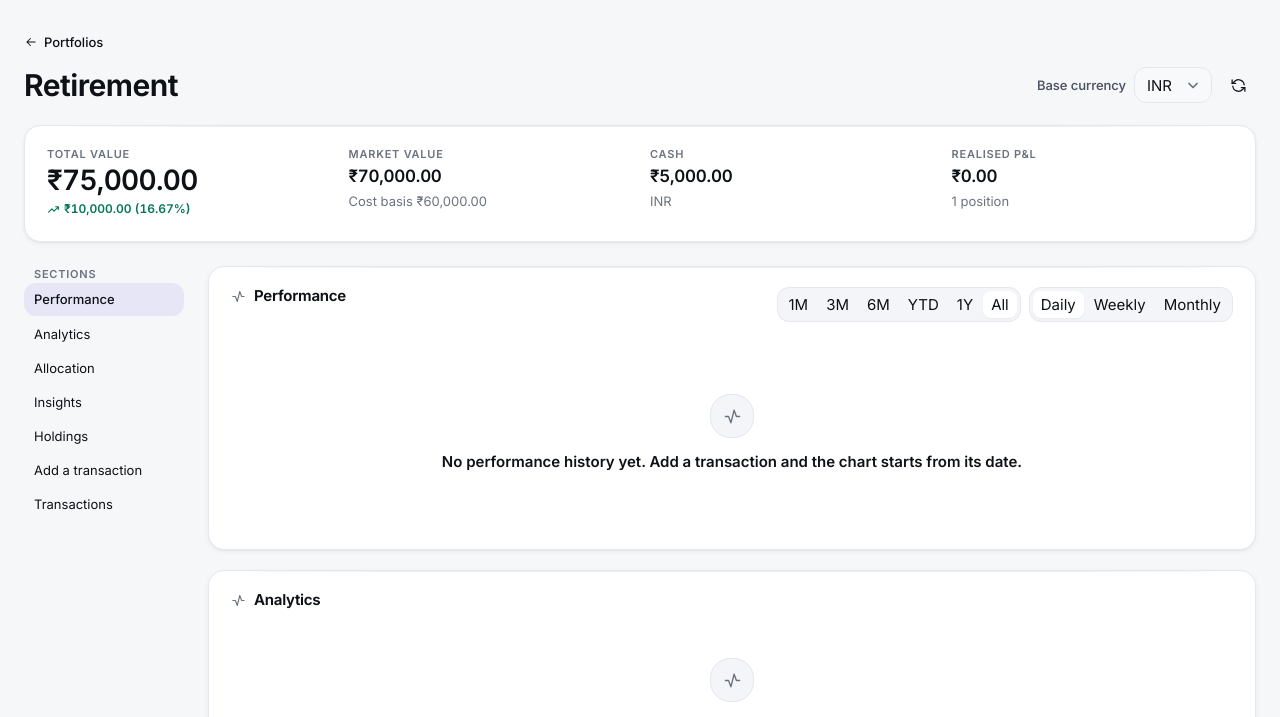
it: PortfolioDetail › shows a toast and leaves the base currency unchanged when the switch fails
Expected: the heading "Retirement" is shown, [24,67,178,105]
Select "USD" in the dropdown labelled "Base currency": (1173, 85) [1134,67,1212,103]
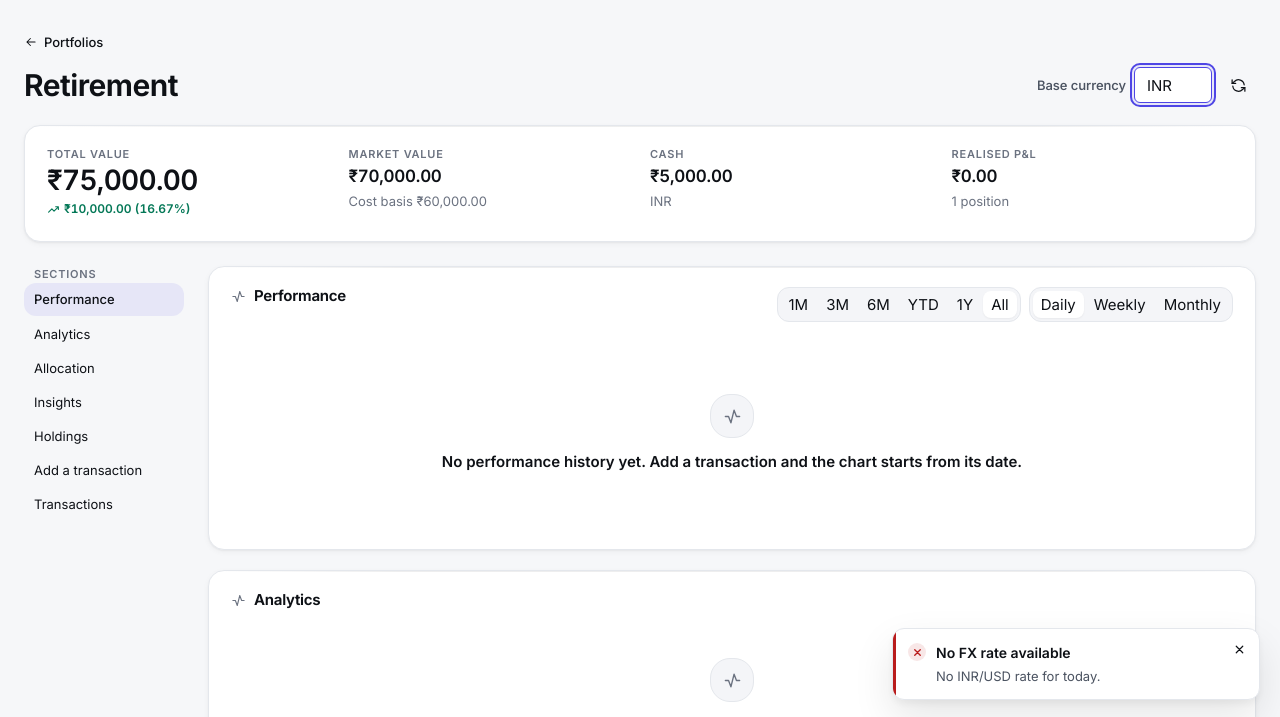
Now the text "No FX rate available" is shown, box [936,644,1071,661]
Now the text "No INR/USD rate for today." is shown, box [936,666,1100,686]
